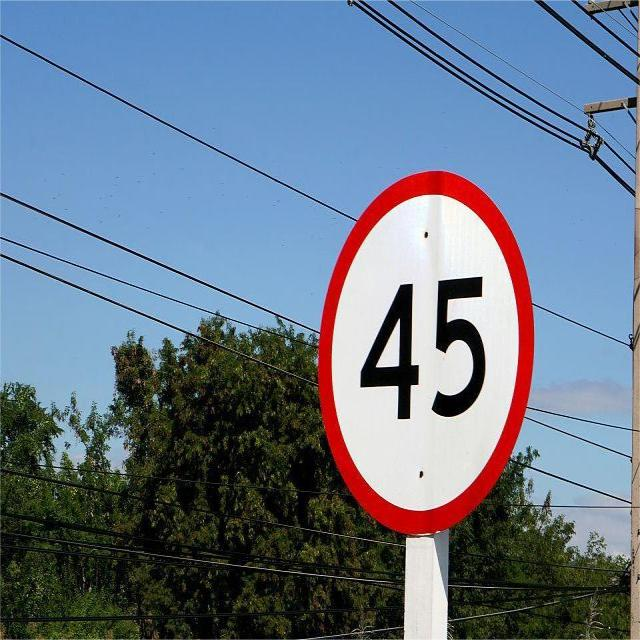speed limit 50: (314, 169, 534, 532)
